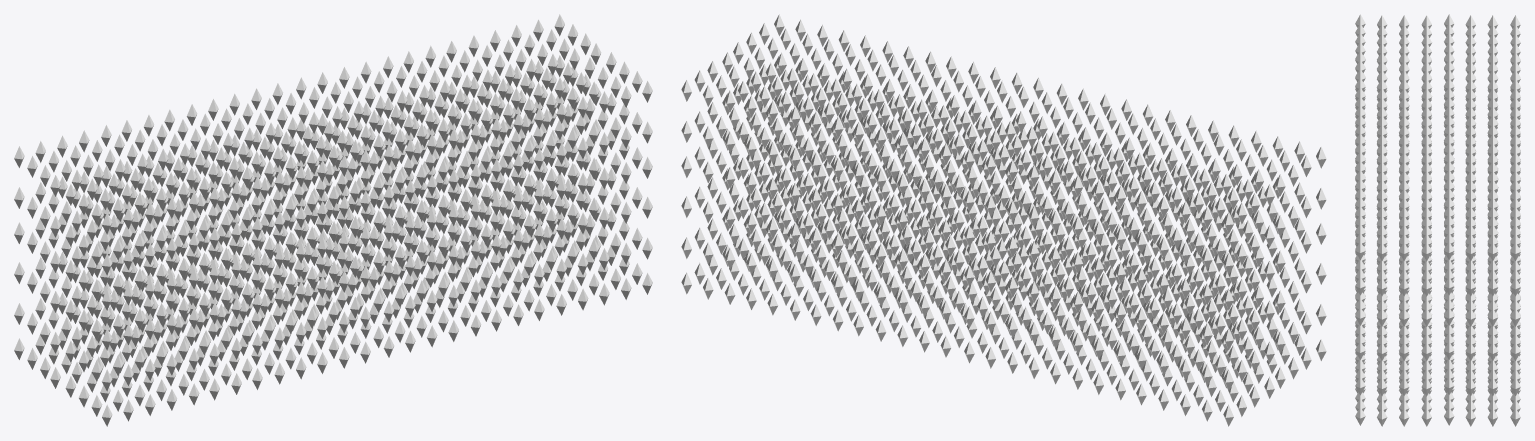
Rendered from loco_starfield.glb.
3 renders of one model, left to right at view 1: azimuth 30°, elevation 25°; view 2: azimuth 150°, elevation 25°; view 3: azimuth 270°, elevation 25°, orthographic. The views are drawn at different scales.
Bounding box in the file's own units: 2.57 × 0.9508 × 0.7728.
1248 materials, 1248 textured.
